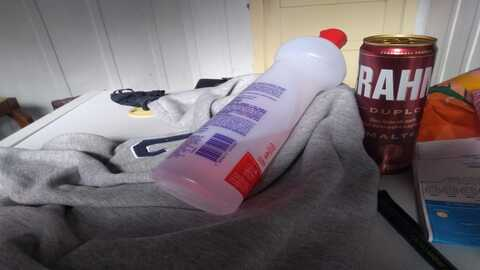duplo_malte: (356, 31, 437, 175)
